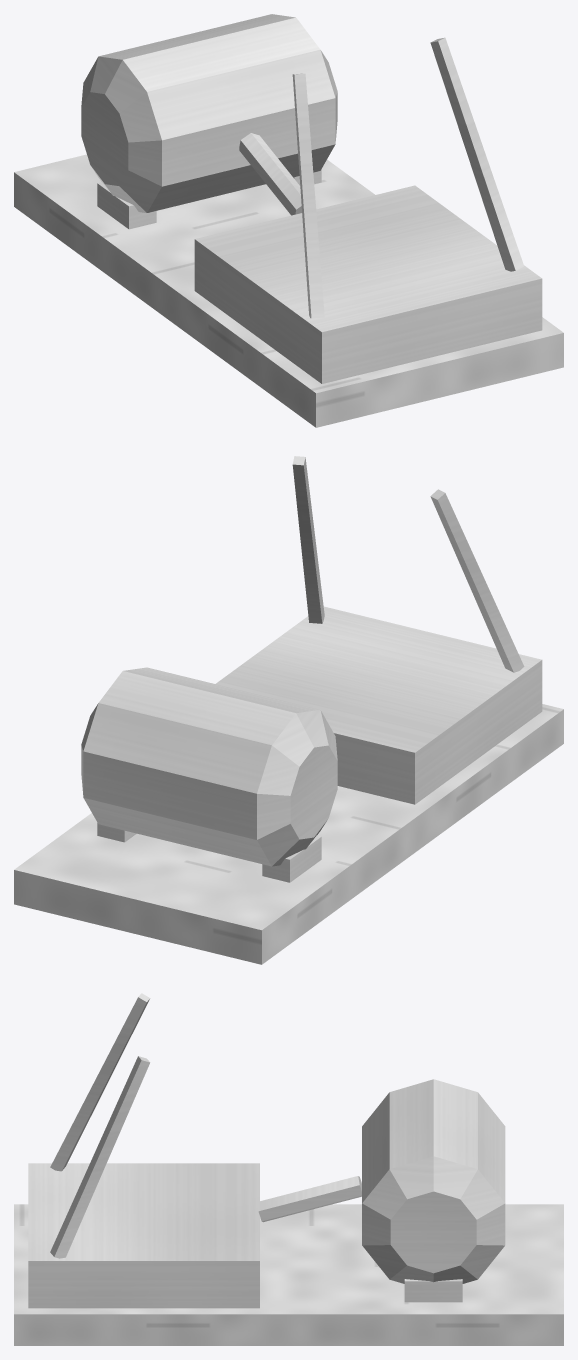
The model's file is pod_launcher.obj.
3 views of the same model, one above another, from view 1: azimuth 30°, elevation 25°; view 2: azimuth 150°, elevation 25°; view 3: azimuth 270°, elevation 25° (orthographic). The views are drawn at different scales.
Visible parts, largest first — view 1: pod_launcher; view 2: pod_launcher; view 3: pod_launcher.
Boxes of the visible parts, x1,y1,x2,y2 form: pod_launcher: (14, 14, 563, 427); pod_launcher: (14, 456, 563, 964); pod_launcher: (14, 993, 563, 1345).
Size of the model in its own units: 0.9 by 1.01 by 1.9.
